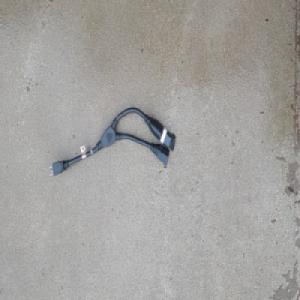Wire: (47, 105, 176, 178)
